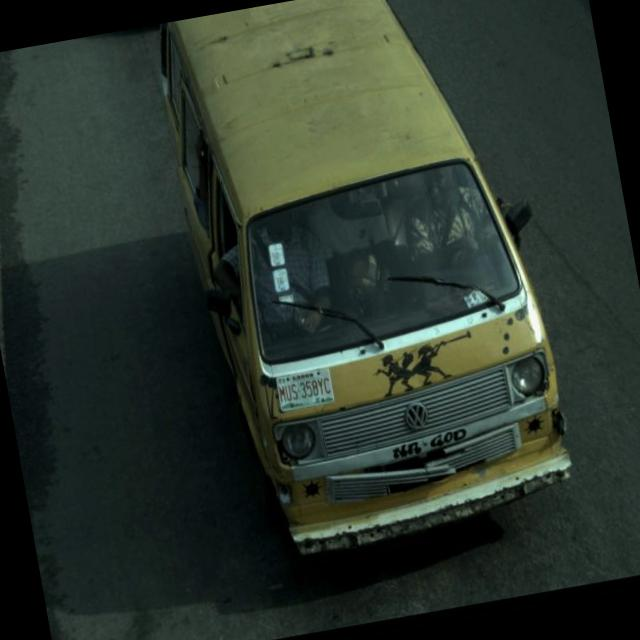person_with_seatbelt: (391, 165, 486, 276)
